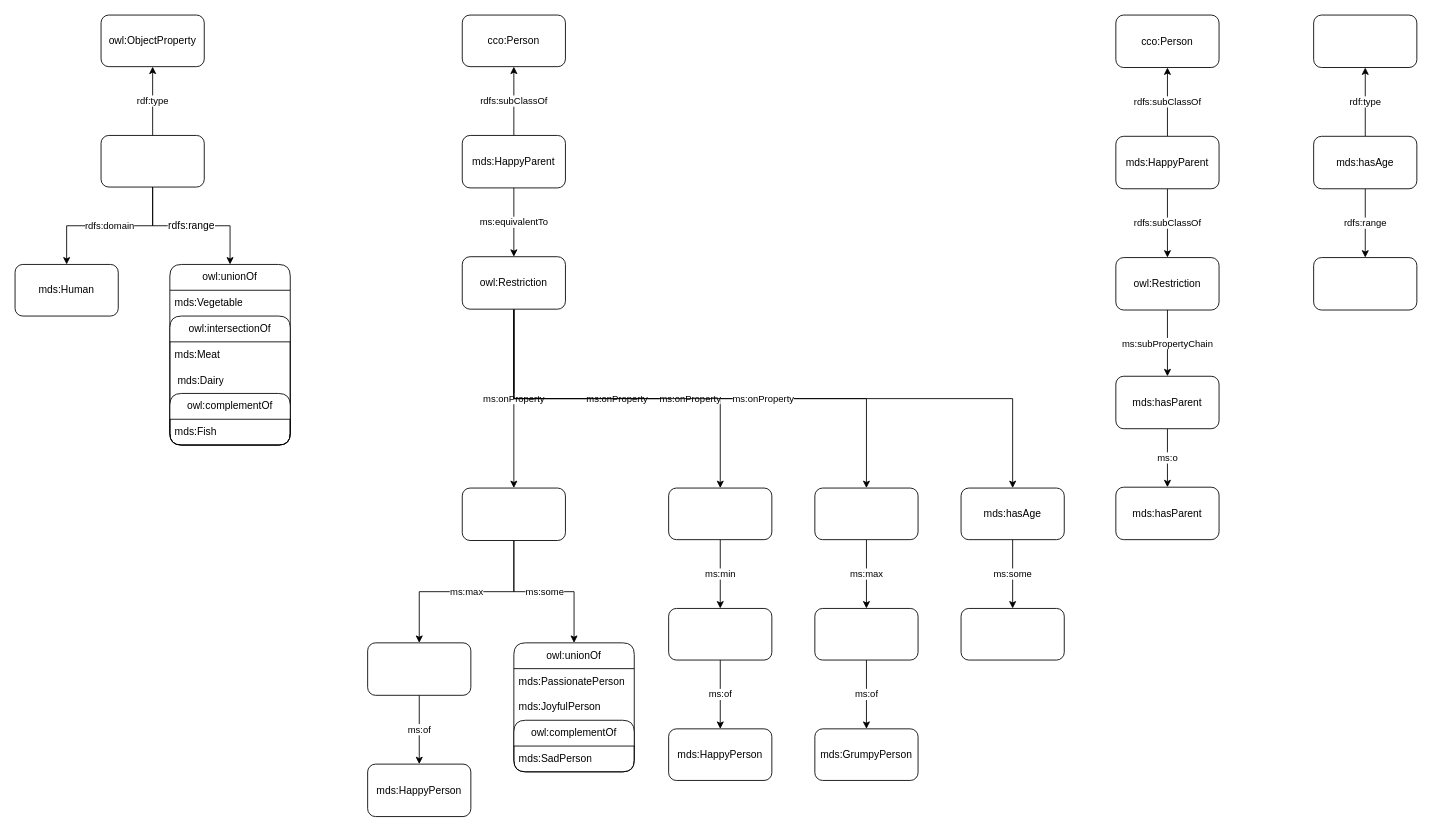
This 1432x832 diagram has some shape labels left out. Here are the shapes that lost their labels. From the top down, the centre of each, then its label:
[1365,41]: owl:DatatypeProperty
[152,161]: mds:Eats (eats,ate, consume, imbibe)
[1365,283]: xsd:string
[513,514]: mds:hasChild
[720,513]: mds:hasWife
[866,513]: mds:hasUncle
[720,634]: "1"^^xsd:integer
[866,634]: "0"^^xsd:integer
[1012,634]: xsd:string[>= 0.0,<= 50.0]
[419,668]: "1"^^xsd:decimal
